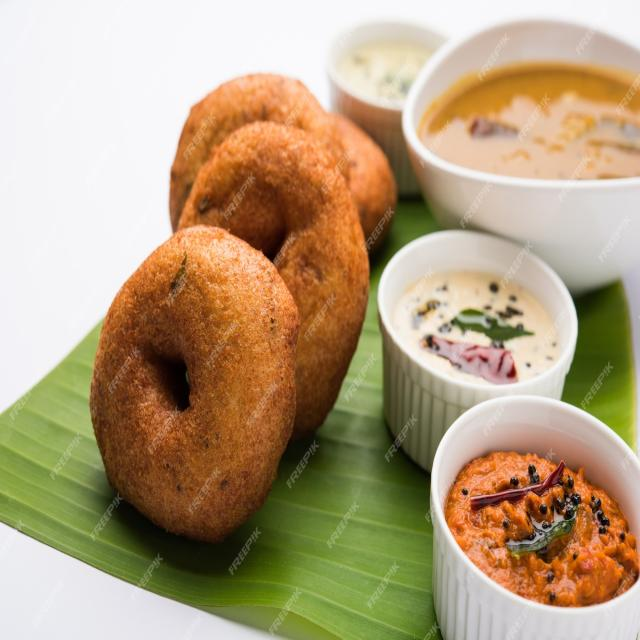RED CHUTNEY: (445, 447, 637, 604)
SAMBAR: (426, 61, 640, 181)
VADA: (88, 73, 397, 549)
WHITE CHUTNEY: (392, 264, 563, 389)
